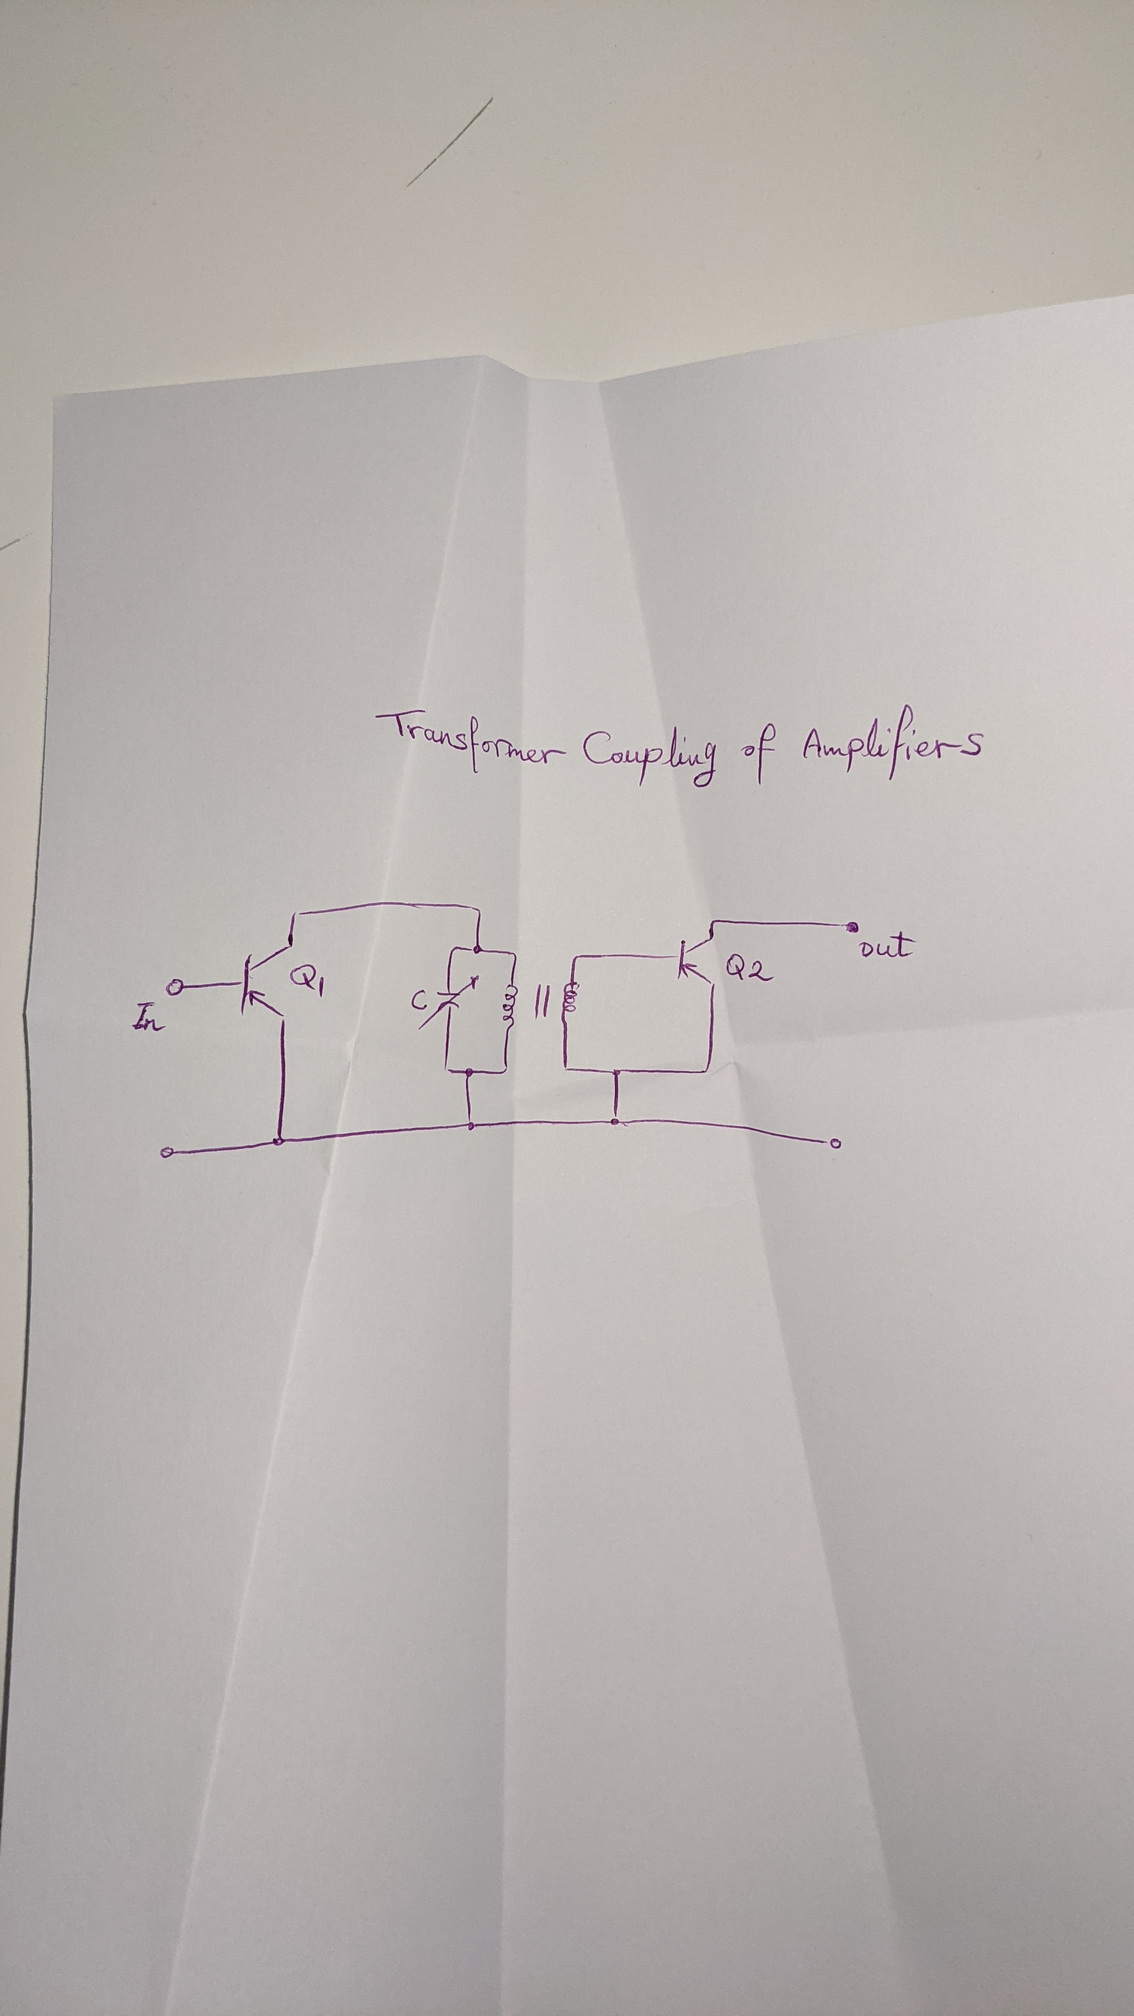capacitor.unpolarized: (415, 973, 480, 1032)
junction: (462, 1115, 479, 1133), (606, 1110, 624, 1127), (270, 1133, 287, 1148), (469, 942, 486, 955), (611, 1065, 626, 1079), (462, 1065, 475, 1081), (468, 903, 485, 915), (500, 1062, 512, 1076), (447, 943, 460, 955), (440, 1061, 451, 1074), (289, 908, 303, 919), (559, 1062, 570, 1074), (701, 1065, 713, 1076), (569, 953, 582, 964), (510, 948, 521, 960), (708, 917, 719, 928)
terminal: (834, 919, 863, 935), (165, 978, 186, 998), (820, 1135, 846, 1151), (158, 1144, 179, 1160)
text: (372, 701, 987, 791), (857, 929, 917, 960), (724, 951, 775, 983), (288, 962, 327, 1000), (130, 998, 168, 1033), (410, 989, 431, 1012)
transformer: (501, 980, 582, 1033)
transistor: (237, 939, 296, 1027), (672, 932, 721, 990)
